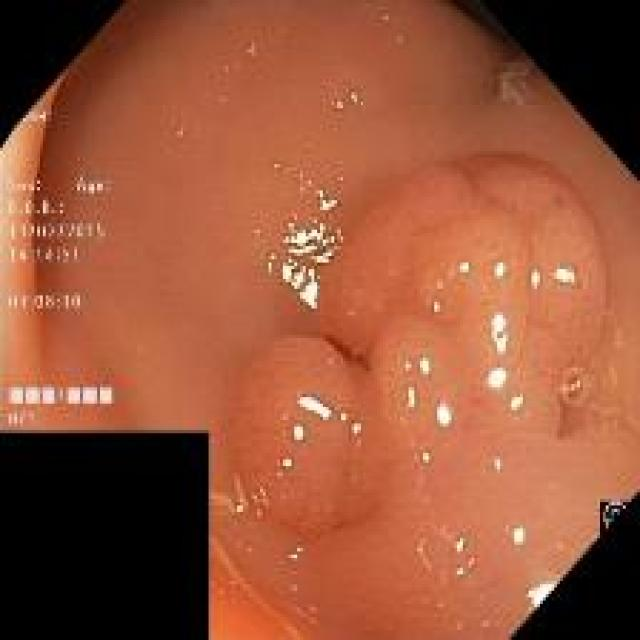Polyps: (234, 155, 606, 536)
